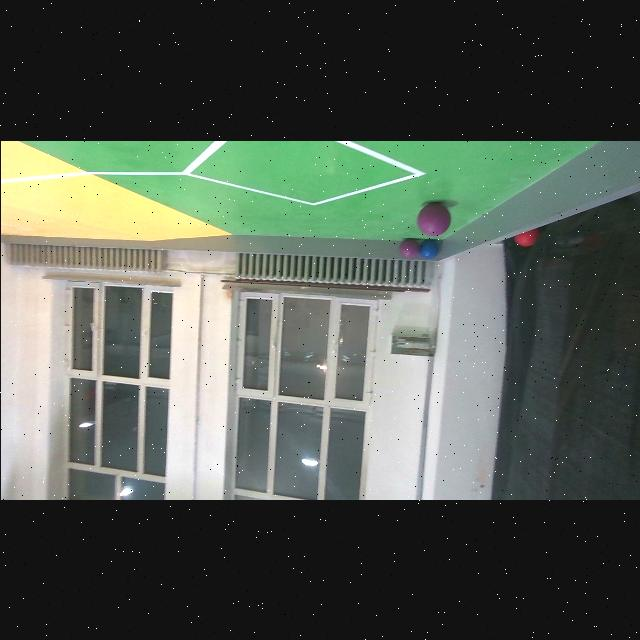B: (418, 240, 438, 258)
P: (416, 202, 449, 236), (398, 238, 418, 258)
